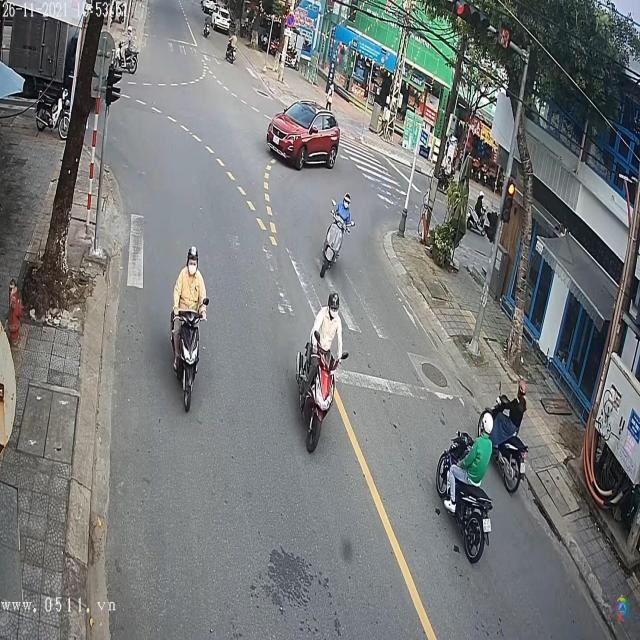car: (263, 100, 345, 173)
motorcycle: (435, 424, 492, 566), (295, 329, 347, 454), (172, 280, 206, 416), (319, 200, 346, 278), (226, 39, 238, 64)
